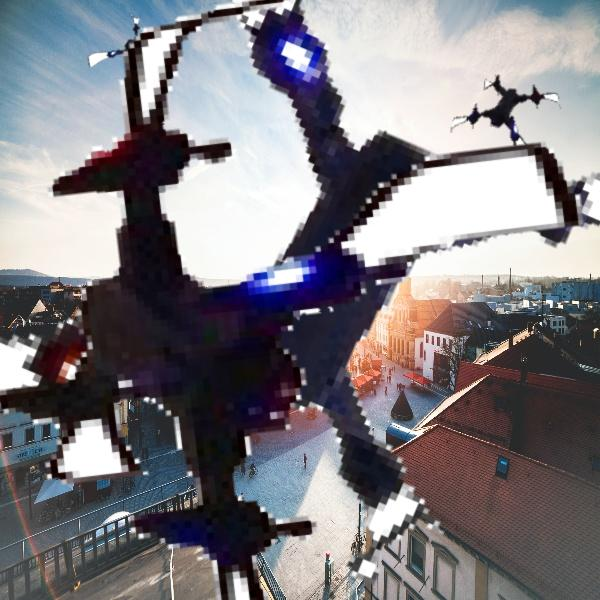drone: (446, 70, 565, 189), (91, 20, 177, 106)
